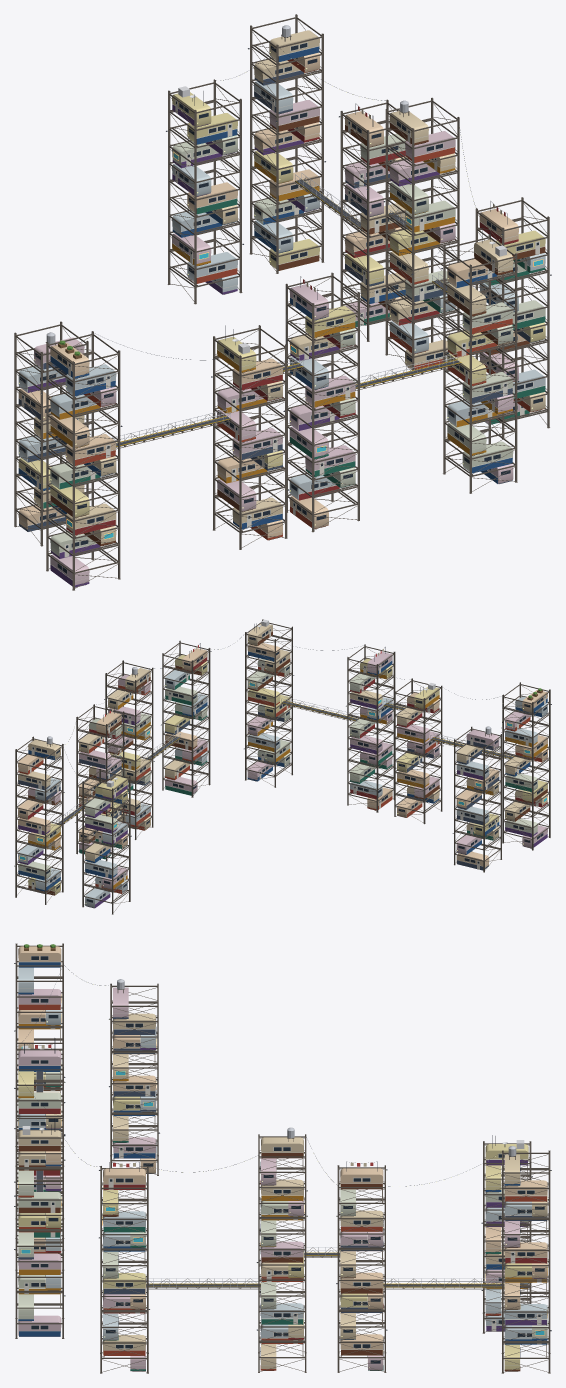
3 views of the same model, one above another, from view 1: azimuth 30°, elevation 25°; view 2: azimuth 150°, elevation 25°; view 3: azimuth 270°, elevation 25° (orthographic). The views are drawn at different scales.
Parts seen in each view (by area): view 1: vertical_towers_b.lod0; view 2: vertical_towers_b.lod0; view 3: vertical_towers_b.lod0.
Part boxes in pixels (x1,y1,x2,y2): vertical_towers_b.lod0: (14, 14, 551, 590); vertical_towers_b.lod0: (14, 619, 551, 914); vertical_towers_b.lod0: (14, 943, 551, 1373).
Bounding box in the file's own units: 85.73 × 40.01 × 85.18.
